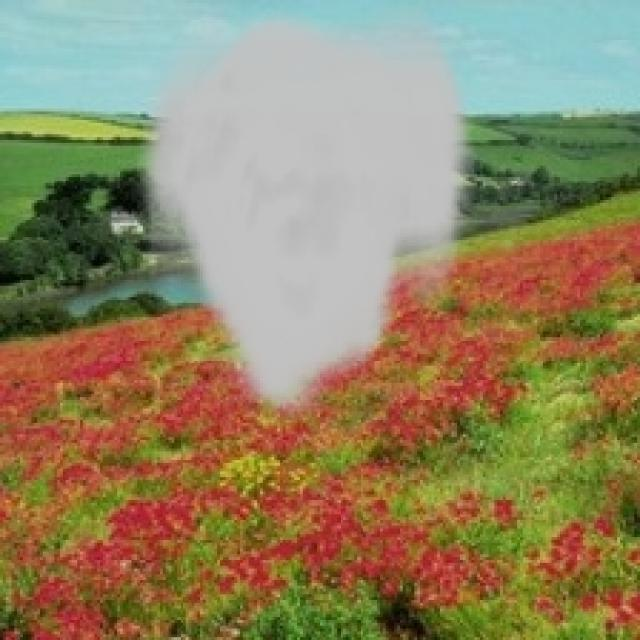Smoke: (128, 6, 478, 423)
